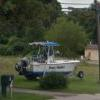Boat: (15, 41, 89, 80)
